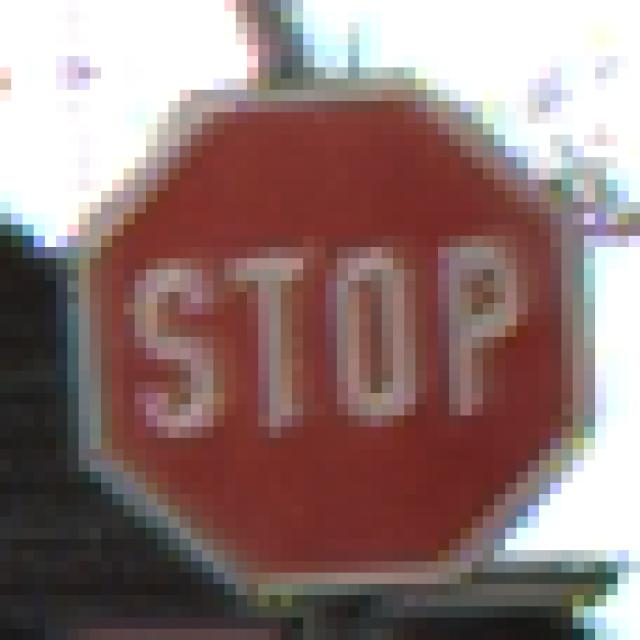stop: (75, 82, 582, 549)
